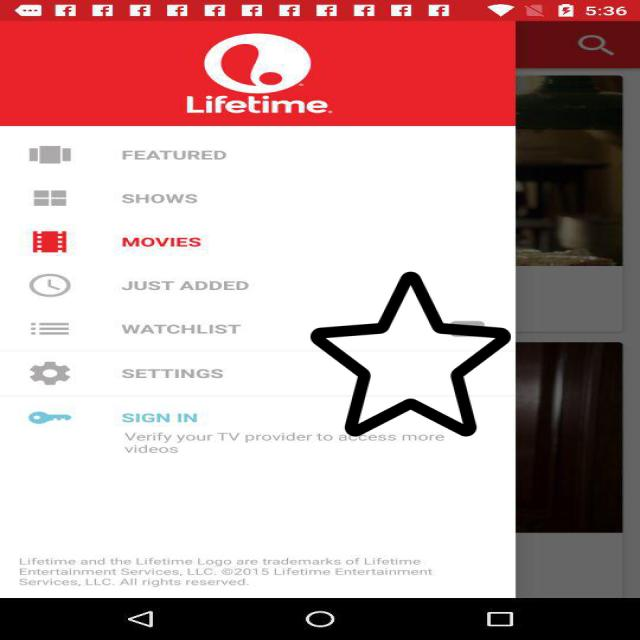forced continuity: (310, 268, 511, 440)
